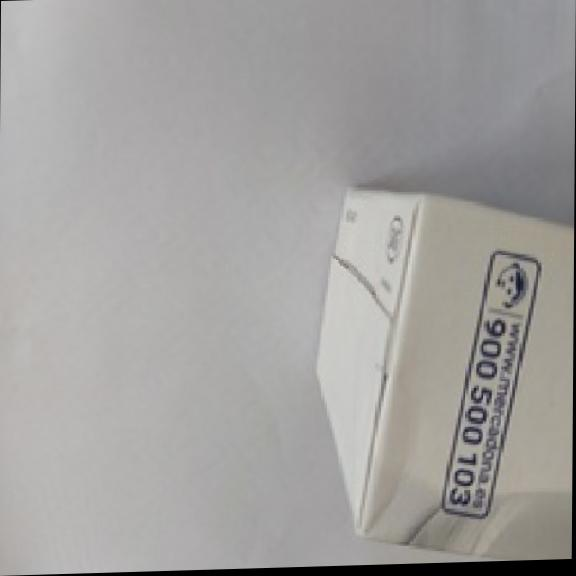Kertas: (319, 193, 574, 559)
